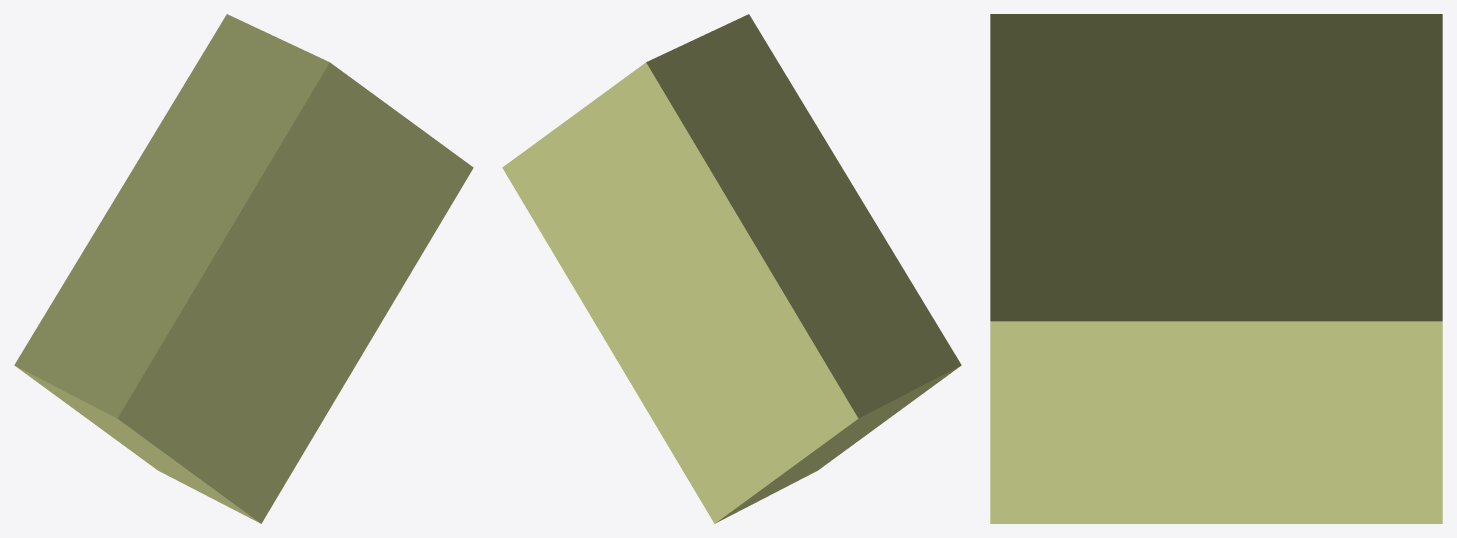
3 renders of one model, left to right at view 1: azimuth 30°, elevation 25°; view 2: azimuth 150°, elevation 25°; view 3: azimuth 270°, elevation 25°, orthographic. The views are drawn at different scales.
Parts seen in each view (by area): view 1: 0_1_1_3_3_1_0_3_2_1_3; view 2: 0_1_1_3_3_1_0_3_2_1_3; view 3: 0_1_1_3_3_1_0_3_2_1_3.
Boxes of the visible parts, box(x1,y1,x2,y2) form: 0_1_1_3_3_1_0_3_2_1_3: box(14, 14, 473, 523); 0_1_1_3_3_1_0_3_2_1_3: box(502, 14, 961, 523); 0_1_1_3_3_1_0_3_2_1_3: box(990, 14, 1442, 523).
Bounding box in the file's own units: 7.6 × 8.69 × 6.
